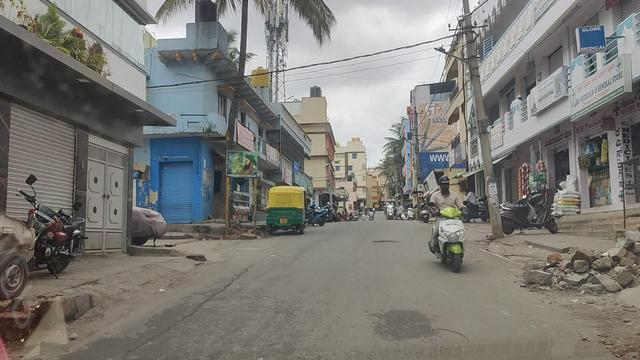LMV: (429, 177, 467, 270)
RoadDamages: (424, 324, 472, 350), (372, 234, 400, 245)
